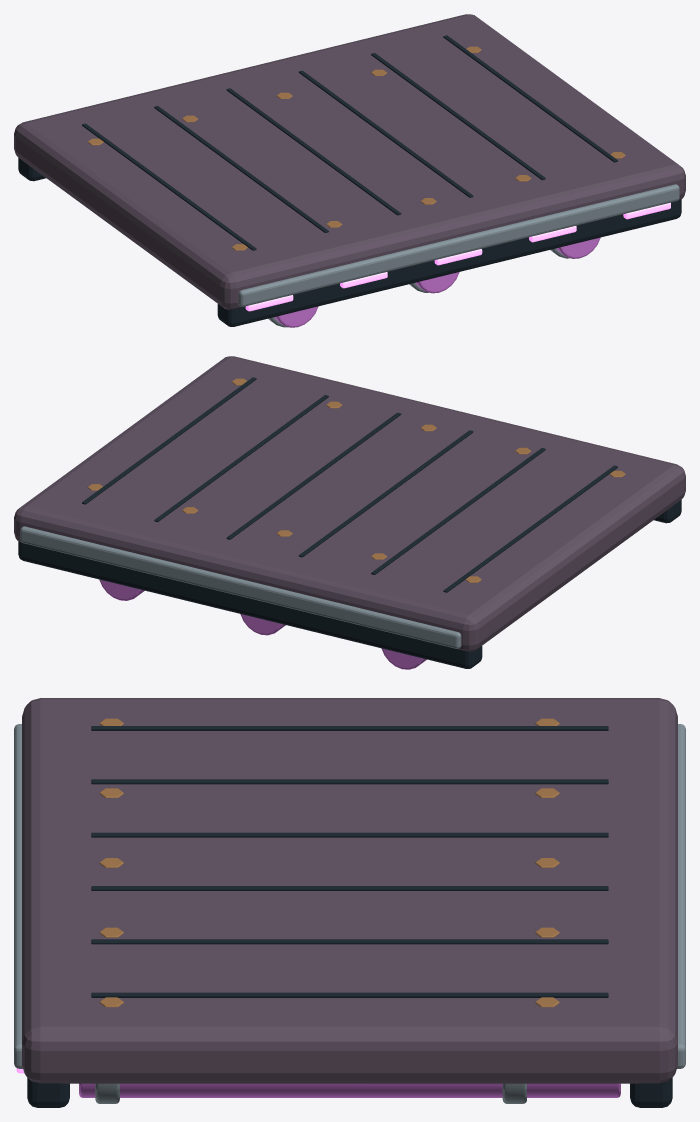
Rendered from traverse_ledge.glb.
3 renders of one model, top to bottom at view 1: azimuth 30°, elevation 25°; view 2: azimuth 150°, elevation 25°; view 3: azimuth 270°, elevation 25°, orthographic. The views are drawn at different scales.
Parts seen in each view (by area): view 1: traverse_ledge; view 2: traverse_ledge; view 3: traverse_ledge.
Boxes of the visible parts, x1,y1,x2,y2 form: traverse_ledge: [14, 14, 685, 327]; traverse_ledge: [14, 356, 685, 669]; traverse_ledge: [14, 698, 685, 1107].
Size of the model in its own units: 3.98 by 0.734 by 3.3.
